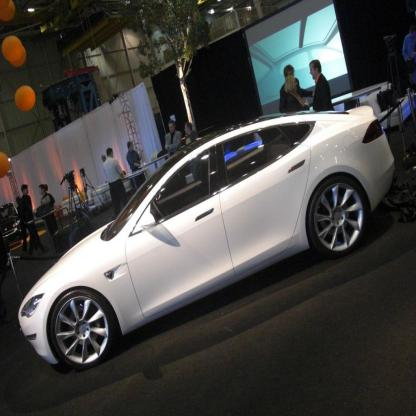Vehicle: (18, 106, 396, 371)
